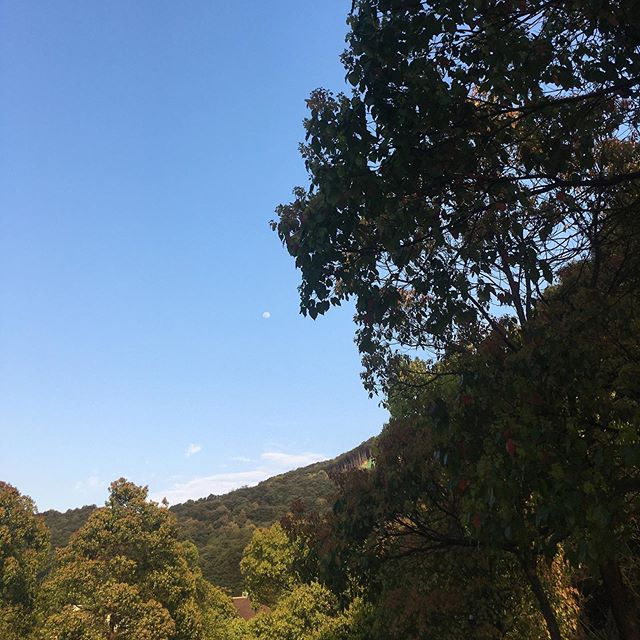sky: (1, 1, 421, 486)
tree: (360, 15, 640, 616), (50, 492, 184, 640)
vegetation: (1, 478, 576, 626)
